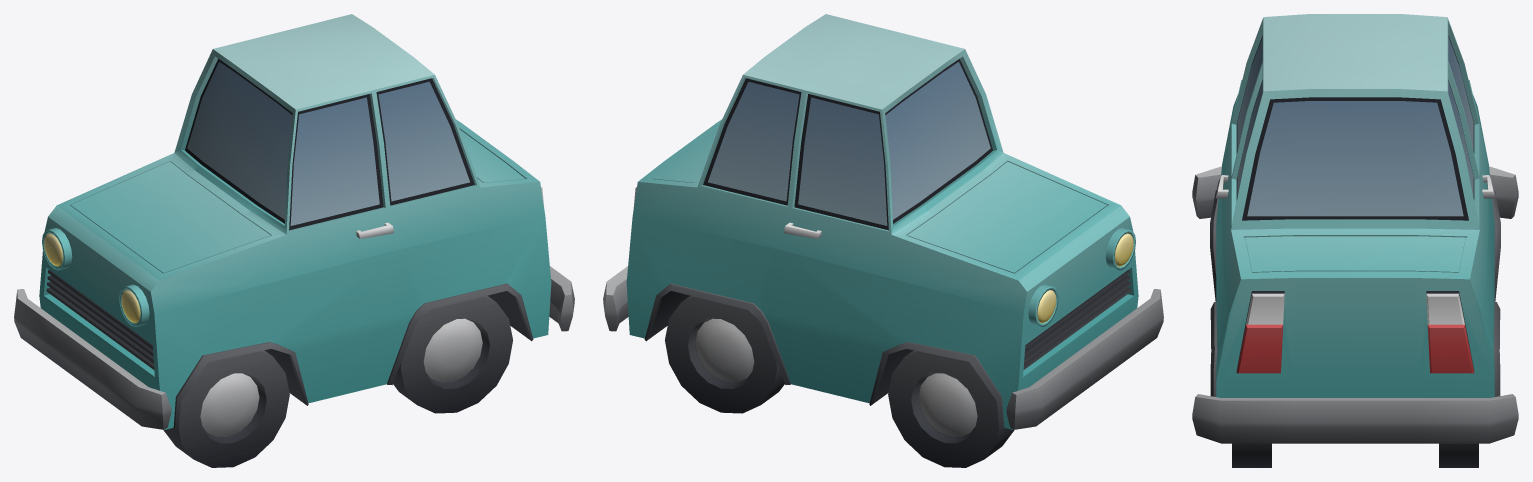
The model's file is uploads_files_2279238_lowpoly+car.fbx.
3 views of the same model, side by side, from view 1: azimuth 30°, elevation 25°; view 2: azimuth 150°, elevation 25°; view 3: azimuth 270°, elevation 25° (orthographic). The views are drawn at different scales.
Visible parts, largest first — view 1: car, front wheels, rear wheels; view 2: car, front wheels, rear wheels; view 3: car, rear wheels.
Boxes of the visible parts, <box> form: car: <box>14,14,574,429</box>; front wheels: <box>163,350,289,467</box>; rear wheels: <box>393,295,512,413</box>; car: <box>603,14,1163,429</box>; front wheels: <box>888,350,1014,467</box>; rear wheels: <box>665,295,784,413</box>; car: <box>1192,14,1518,443</box>; rear wheels: <box>1232,443,1478,467</box>.
Bounding box in the file's own units: 20 × 14.58 × 11.6.
